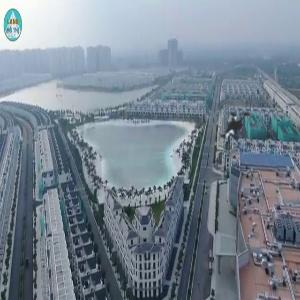drone: (200, 91, 273, 164)
